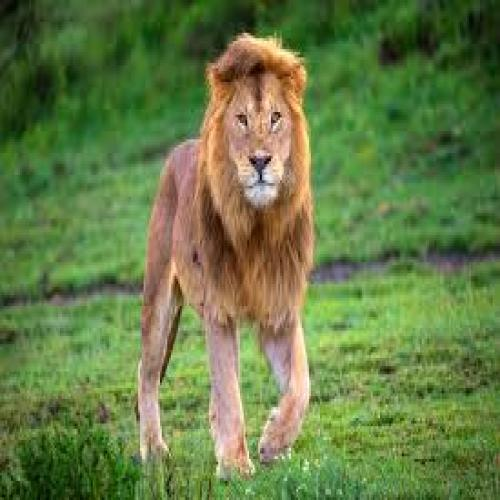lion-endangered: (136, 35, 312, 468)
